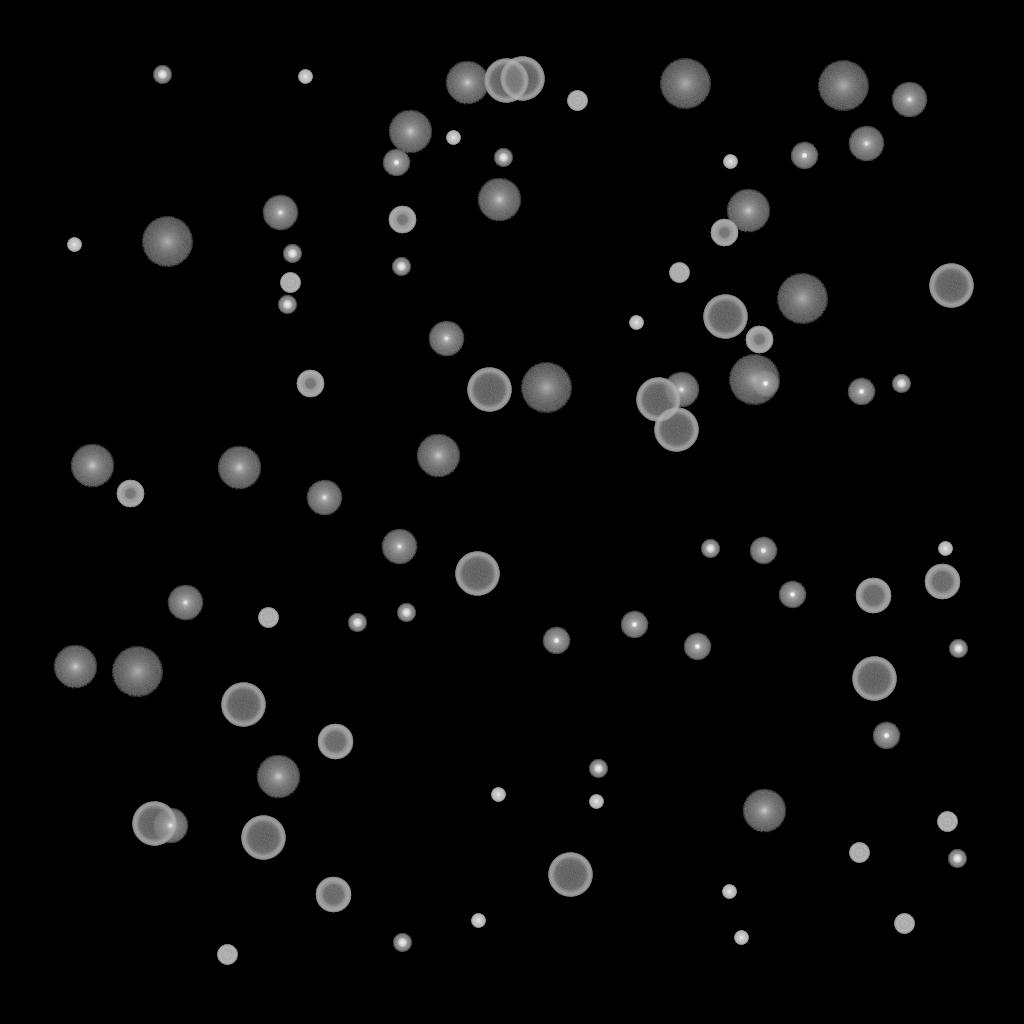depth:-10: (847, 378, 875, 406), (872, 722, 900, 750), (620, 611, 648, 639), (542, 627, 570, 655), (778, 581, 806, 609), (790, 142, 818, 170), (683, 633, 711, 661), (382, 149, 410, 177), (749, 537, 777, 565), (751, 370, 779, 398)
depth:-20: (153, 66, 171, 84), (948, 850, 966, 868), (393, 934, 411, 952), (283, 245, 301, 263), (701, 540, 719, 558), (892, 375, 910, 393), (348, 614, 366, 632), (397, 604, 415, 622), (589, 760, 607, 778), (494, 149, 512, 167), (949, 640, 967, 658), (392, 258, 410, 276), (278, 296, 296, 314)
depth:-30: (298, 70, 312, 84), (723, 155, 737, 169), (446, 131, 460, 145), (67, 238, 81, 252), (938, 542, 952, 556), (629, 316, 643, 330), (491, 788, 505, 802), (734, 931, 748, 945), (722, 885, 736, 899), (589, 795, 603, 809), (471, 914, 485, 928)
depth:-40: (217, 945, 237, 965), (567, 91, 587, 111), (280, 273, 300, 293), (258, 608, 278, 628), (849, 843, 869, 863), (669, 263, 689, 283), (894, 914, 914, 934), (937, 812, 957, 832)
depth:-50: (296, 370, 324, 398), (388, 206, 416, 234), (710, 219, 738, 247), (116, 480, 144, 508), (745, 326, 773, 354)
depth:-60: (924, 564, 960, 600), (315, 877, 351, 913), (317, 724, 353, 760), (855, 578, 891, 614)
depth:-70: (654, 408, 698, 452), (703, 295, 747, 339), (484, 59, 528, 103), (241, 816, 285, 860), (548, 853, 592, 897), (852, 657, 896, 701), (455, 552, 499, 596), (929, 264, 973, 308), (467, 368, 511, 412), (500, 57, 544, 101), (221, 683, 265, 727), (636, 378, 680, 422), (132, 802, 176, 846)
depth:0: (428, 321, 464, 357), (306, 480, 342, 516), (891, 82, 927, 118), (152, 808, 188, 844), (262, 195, 298, 231), (381, 529, 417, 565), (663, 372, 699, 408), (167, 585, 203, 621), (848, 126, 884, 162)
depth:10: (726, 189, 770, 233), (742, 789, 786, 833), (70, 444, 114, 488), (477, 178, 521, 222), (388, 110, 432, 154), (256, 755, 300, 799), (53, 645, 97, 689), (445, 61, 489, 105), (217, 446, 261, 490), (416, 434, 460, 478)
depth:20: (141, 217, 193, 267), (728, 355, 780, 405), (520, 363, 572, 413), (111, 647, 163, 697), (776, 274, 828, 324), (817, 61, 869, 111), (659, 59, 711, 109)
